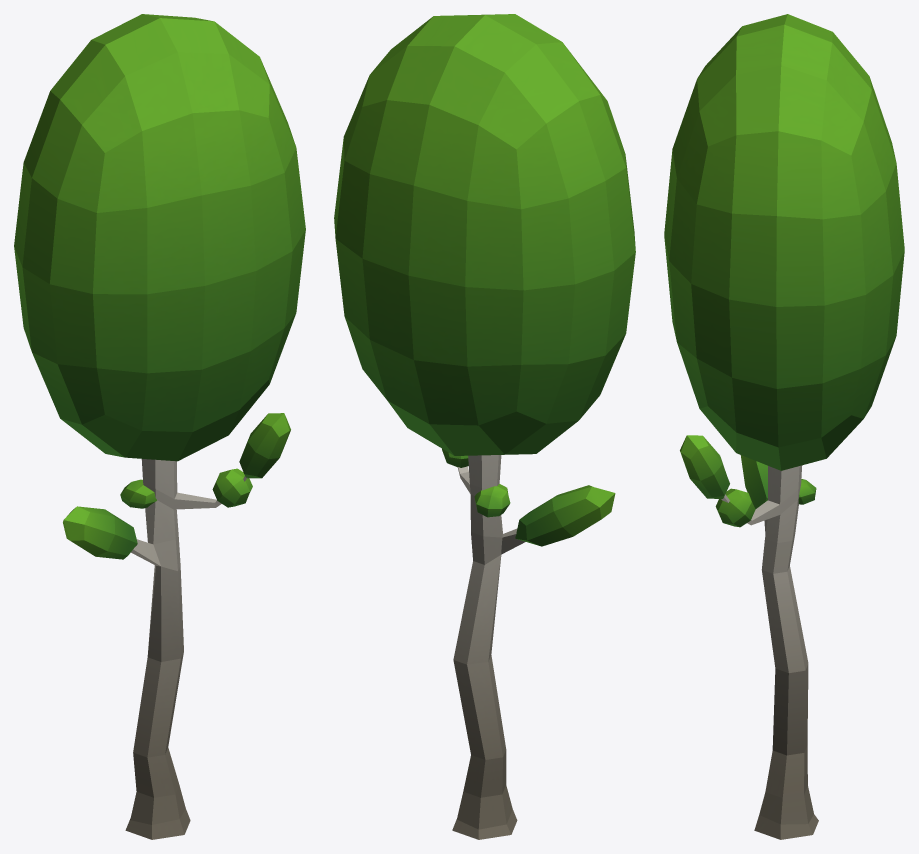
The model's file is Tree_2.fbx.
3 views of the same model, side by side, from view 1: azimuth 30°, elevation 25°; view 2: azimuth 150°, elevation 25°; view 3: azimuth 270°, elevation 25° (orthographic).
Parts seen in each view (by area): view 1: Tree_2; view 2: Tree_2; view 3: Tree_2.
Part boxes in pixels (x1,y1,x2,y2): Tree_2: [14, 14, 305, 839]; Tree_2: [334, 14, 635, 839]; Tree_2: [664, 14, 904, 839].
Bounding box in the file's own units: 3.6 × 2.84 × 10.42.
